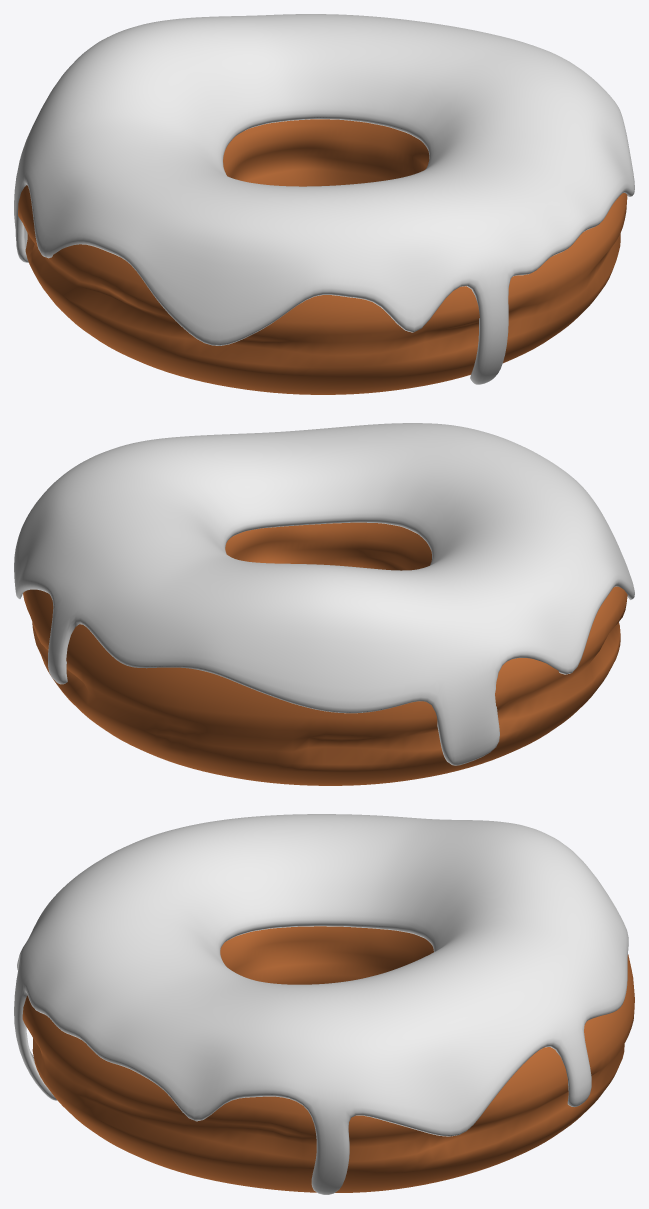
The model's file is donut.fbx.
3 views of the same model, one above another, from view 1: azimuth 30°, elevation 25°; view 2: azimuth 150°, elevation 25°; view 3: azimuth 270°, elevation 25° (orthographic). The views are drawn at different scales.
Visible parts, largest first — view 1: Torus.003, Torus; view 2: Torus.003, Torus; view 3: Torus.003, Torus.
Boxes of the visible parts, <box> form: Torus.003: <box>14,14,634,384</box>; Torus: <box>18,119,627,394</box>; Torus.003: <box>14,423,634,765</box>; Torus: <box>23,522,627,785</box>; Torus.003: <box>14,814,628,1194</box>; Torus: <box>22,926,634,1192</box>.
Bounding box in the file's own units: 15.54 × 5.66 × 14.97.
